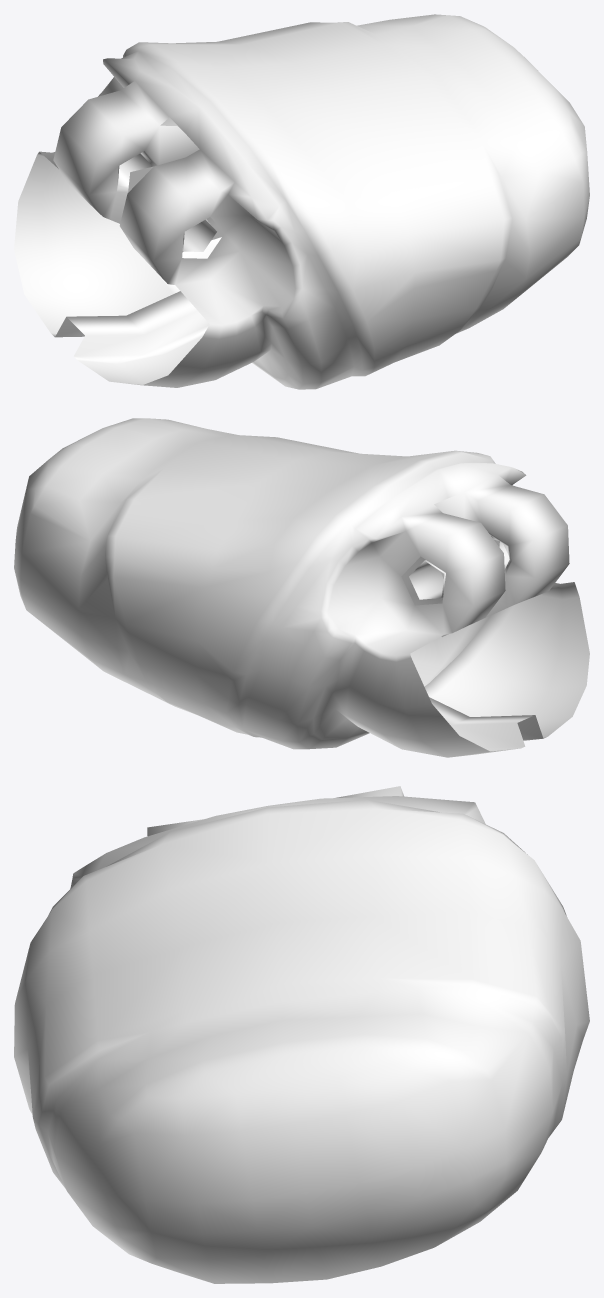
File: RFinger23.dae
3 renders of one model, top to bottom at view 1: azimuth 30°, elevation 25°; view 2: azimuth 150°, elevation 25°; view 3: azimuth 270°, elevation 25°, orthographic. The views are drawn at different scales.
Visible parts, largest first — view 1: RFinger23; view 2: RFinger23; view 3: RFinger23.
Part boxes in pixels (x1,y1,x2,y2): RFinger23: (14, 14, 589, 389); RFinger23: (14, 418, 589, 757); RFinger23: (14, 786, 589, 1283).
Size of the model in its own units: 0.0204 by 0.0161 by 0.0112.
